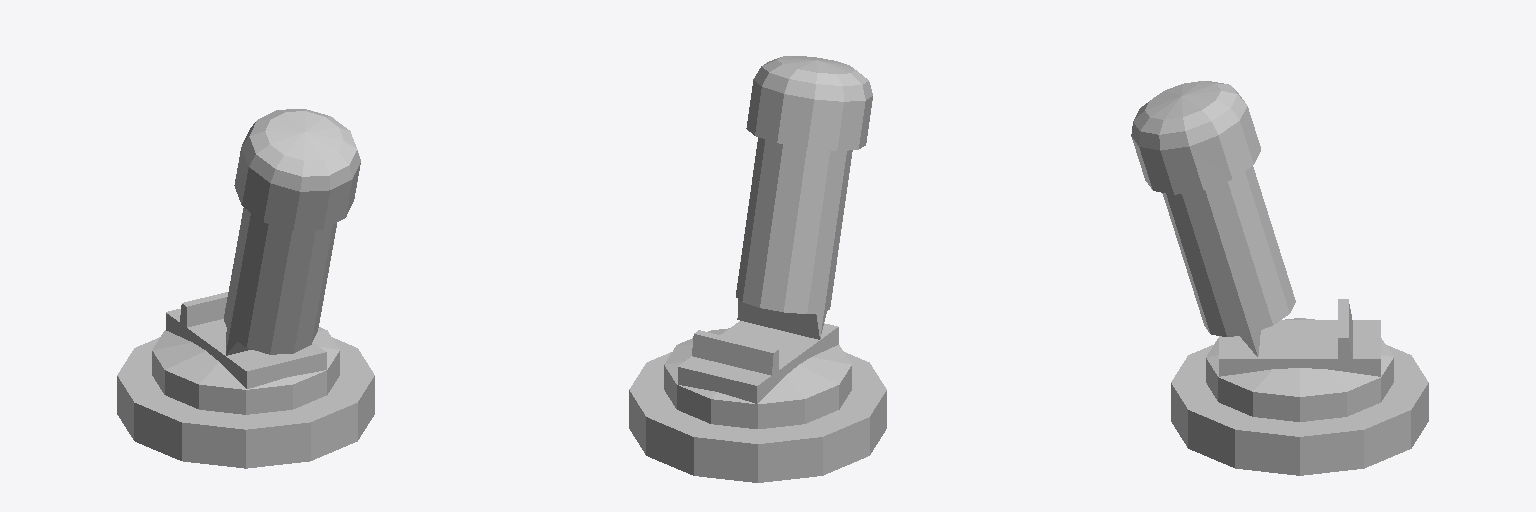
Rendered from Sw_APU - Start.obj.
The picture shows the model from 3 angles: view 1: azimuth 30°, elevation 25°; view 2: azimuth 150°, elevation 25°; view 3: azimuth 270°, elevation 25°; orthographic projection.
Visible parts, largest first — view 1: Switch, LockNut, SwitchBase, Slider, LockingTine; view 2: Switch, LockNut, SwitchBase, Slider, LockingTine; view 3: Switch, LockNut, SwitchBase, Slider, LockingTine.
Boxes of the visible parts, x1=… form: Switch: x1=224, y1=109, x2=360, y2=355; LockNut: x1=117, y1=337, x2=374, y2=468; SwitchBase: x1=152, y1=327, x2=339, y2=414; Slider: x1=166, y1=309, x2=326, y2=388; LockingTine: x1=180, y1=292, x2=227, y2=327; Switch: x1=736, y1=56, x2=872, y2=339; LockNut: x1=629, y1=352, x2=886, y2=482; SwitchBase: x1=664, y1=328, x2=851, y2=428; Slider: x1=678, y1=321, x2=838, y2=403; LockingTine: x1=692, y1=330, x2=778, y2=375; Switch: x1=1131, y1=81, x2=1295, y2=356; LockNut: x1=1171, y1=345, x2=1428, y2=475; SwitchBase: x1=1206, y1=318, x2=1393, y2=421; Slider: x1=1219, y1=320, x2=1380, y2=376; LockingTine: x1=1338, y1=299, x2=1352, y2=358.
Size of the model in its own units: 6 by 8.5 by 6.92.